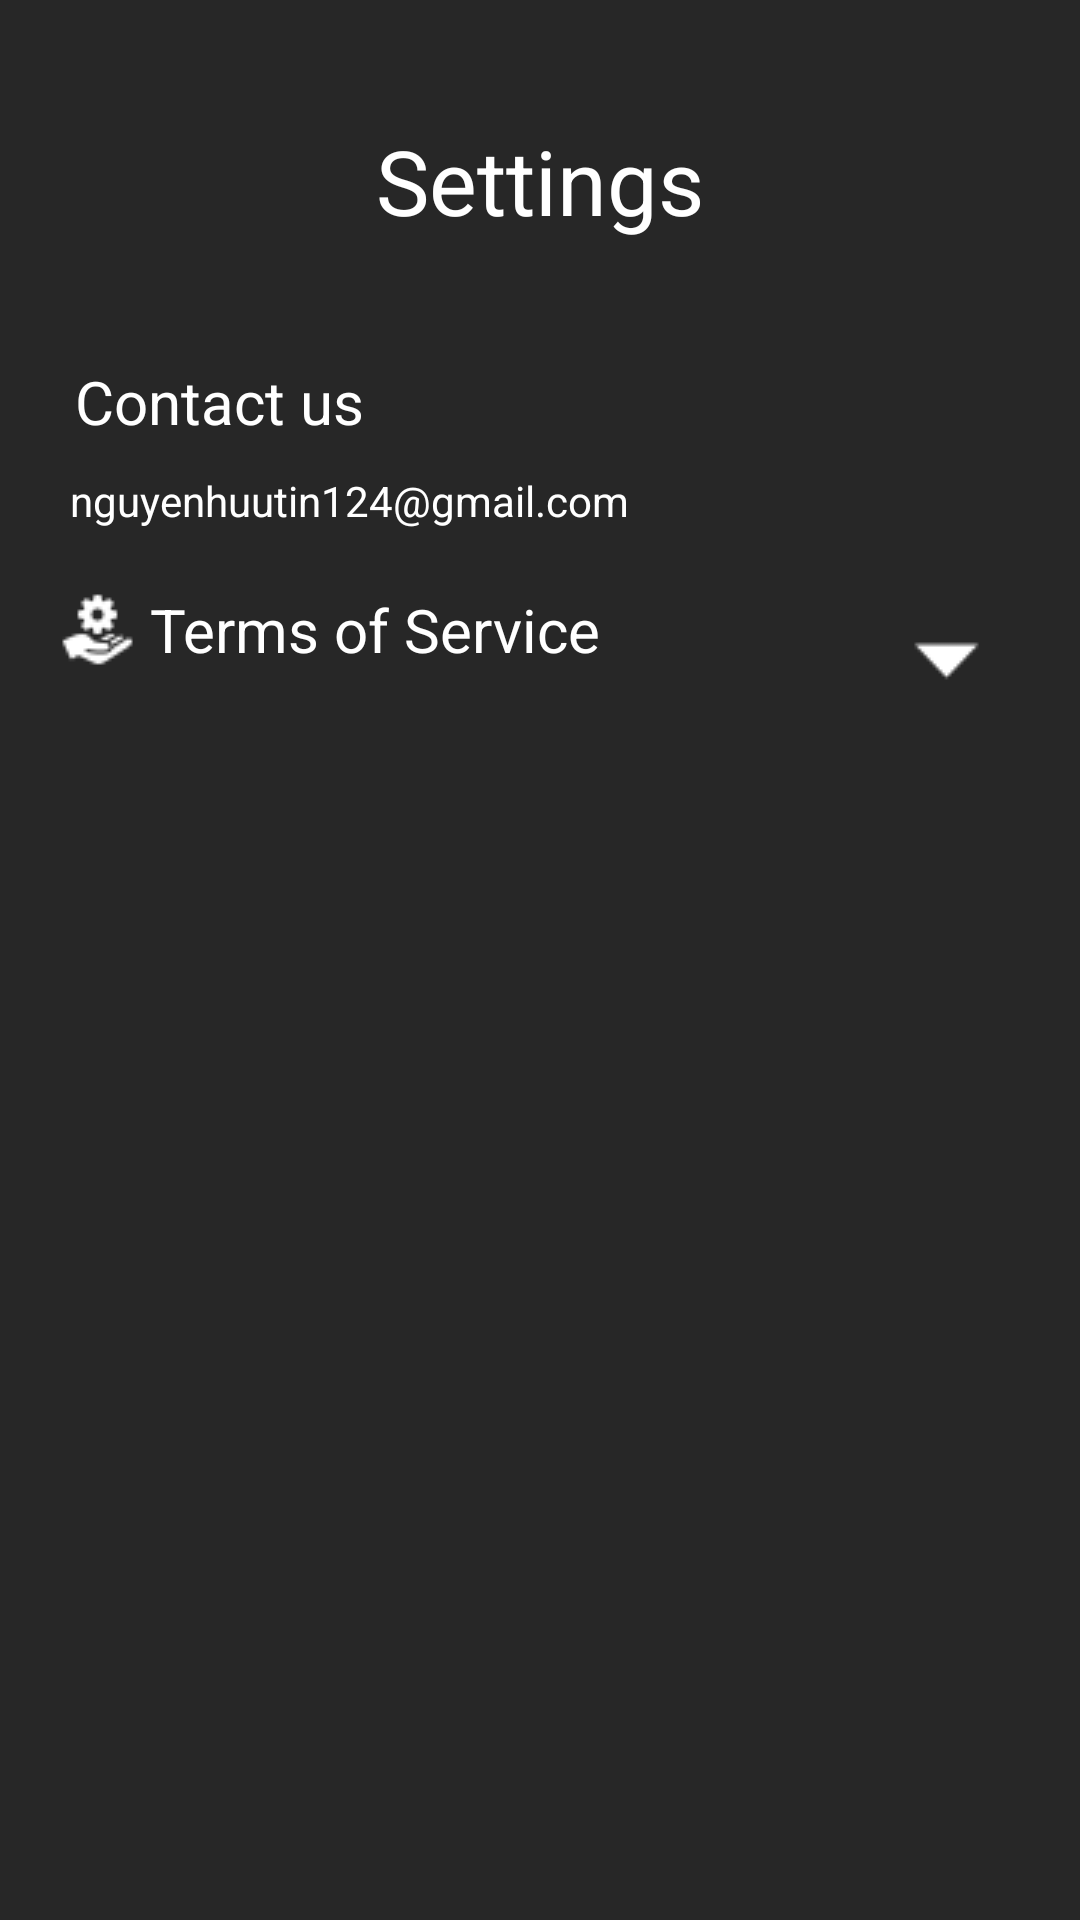

Icons on this 1080px×1920px Android screen, each with its box as (x1, y1, x2, y2):
arrow down: (914, 642, 979, 679)
